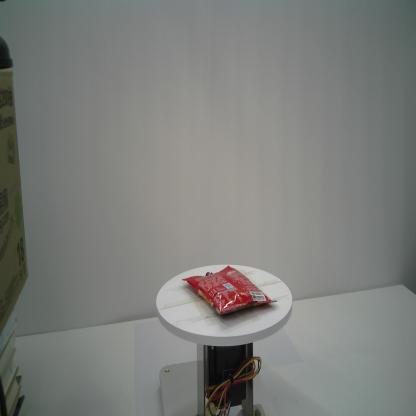Instant Drink: (182, 264, 277, 317)
